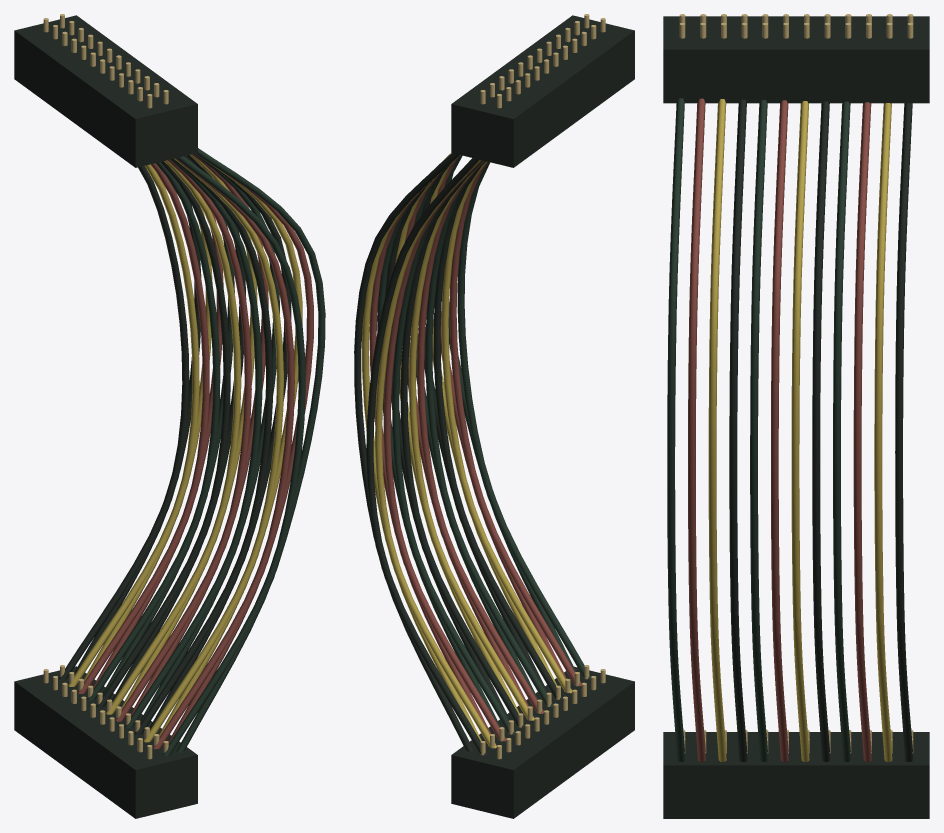
The model's file is cables.glb.
The picture shows the model from 3 angles, left to right: view 1: azimuth 30°, elevation 25°; view 2: azimuth 150°, elevation 25°; view 3: azimuth 270°, elevation 25°; orthographic projection. The views are drawn at different scales.
Visible parts, largest first — view 1: ATX connector housing · original (×2), Wire 12, Wire 11, Wire 10, Wire 9, Wire 8, Wire 7, Wire 6, Wire 5, Wire 24, Wire 4, Wire 3 (+13 smaller); view 2: ATX connector housing · original (×2), Wire 1, Wire 13, Wire 2, Wire 3, Wire 4, Wire 5, Wire 8, Wire 6, Wire 10, Wire 7, Wire 9 (+13 smaller); view 3: ATX connector housing · original (×2), Wire 24, Wire 21, Wire 22, Wire 17, Wire 14, Wire 18, Wire 23, Wire 20, Wire 15, Wire 13, Wire 19 (+12 smaller).
Boxes of the visible parts, bbox=[...] form: ATX connector housing · original (×2): bbox=[14, 15, 197, 818]; Wire 12: bbox=[162, 156, 305, 755]; Wire 11: bbox=[153, 158, 294, 749]; Wire 10: bbox=[143, 158, 283, 742]; Wire 9: bbox=[134, 159, 273, 735]; Wire 8: bbox=[125, 159, 262, 728]; Wire 7: bbox=[115, 159, 251, 721]; Wire 6: bbox=[106, 160, 241, 714]; Wire 5: bbox=[96, 161, 230, 707]; Wire 24: bbox=[176, 148, 325, 752]; Wire 4: bbox=[87, 162, 220, 700]; Wire 3: bbox=[77, 163, 209, 693]; ATX connector housing · original (×2): bbox=[451, 15, 634, 818]; Wire 1: bbox=[366, 158, 487, 755]; Wire 13: bbox=[354, 153, 473, 751]; Wire 2: bbox=[375, 160, 496, 748]; Wire 3: bbox=[383, 160, 506, 741]; Wire 4: bbox=[392, 160, 515, 734]; Wire 5: bbox=[400, 160, 524, 727]; Wire 8: bbox=[425, 161, 553, 706]; Wire 6: bbox=[408, 161, 534, 720]; Wire 10: bbox=[441, 161, 572, 693]; Wire 7: bbox=[417, 163, 543, 713]; Wire 9: bbox=[433, 161, 562, 699]; ATX connector housing · original (×2): bbox=[663, 16, 929, 818]; Wire 24: bbox=[667, 98, 684, 761]; Wire 21: bbox=[729, 99, 747, 761]; Wire 22: bbox=[708, 99, 726, 761]; Wire 17: bbox=[812, 101, 830, 761]; Wire 14: bbox=[874, 103, 892, 761]; Wire 18: bbox=[791, 101, 809, 761]; Wire 23: bbox=[688, 98, 705, 761]; Wire 20: bbox=[750, 100, 767, 761]; Wire 15: bbox=[853, 102, 871, 761]; Wire 13: bbox=[895, 103, 912, 761]; Wire 19: bbox=[771, 100, 788, 761].
Size of the model in its own units: 0.4961 by 1.75 by 0.54.
